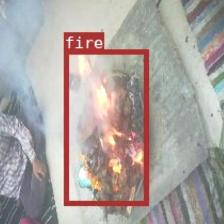fire: (63, 49, 148, 205)
